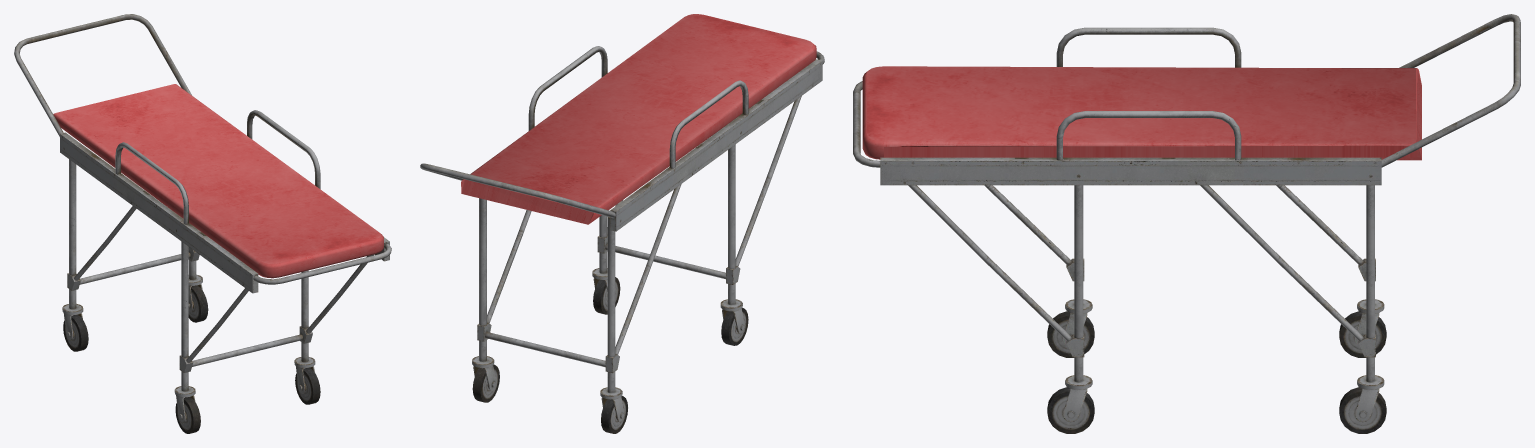
Rendered from stretcher.fbx.
3 views of the same model, side by side, from view 1: azimuth 30°, elevation 25°; view 2: azimuth 150°, elevation 25°; view 3: azimuth 270°, elevation 25° (orthographic). The views are drawn at different scales.
Visible parts, largest first — view 1: Stretcher; view 2: Stretcher; view 3: Stretcher.
Part boxes in pixels (x1,y1,x2,y2): Stretcher: (14, 14, 391, 433); Stretcher: (420, 14, 824, 433); Stretcher: (853, 14, 1520, 433).
Size of the model in its own units: 61 by 112 by 197.
1 material, 1 textured.
